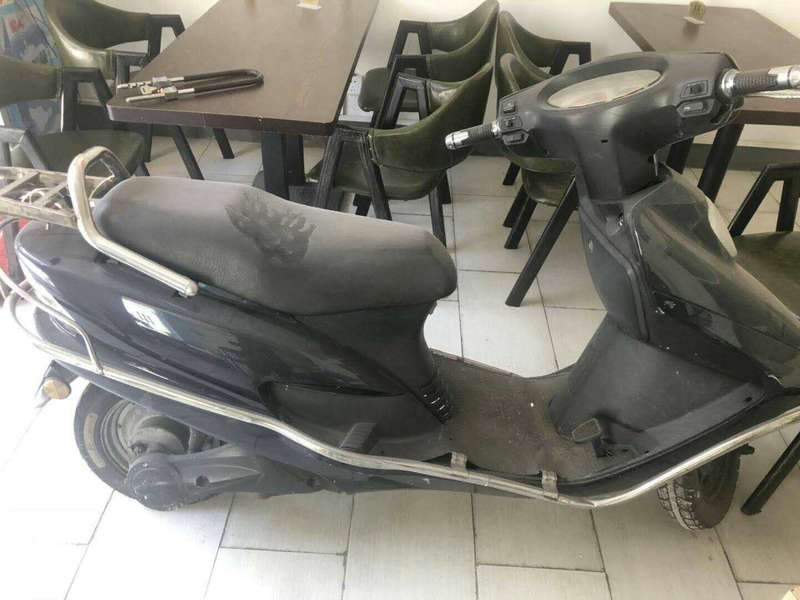电动车: (1, 54, 800, 541)
